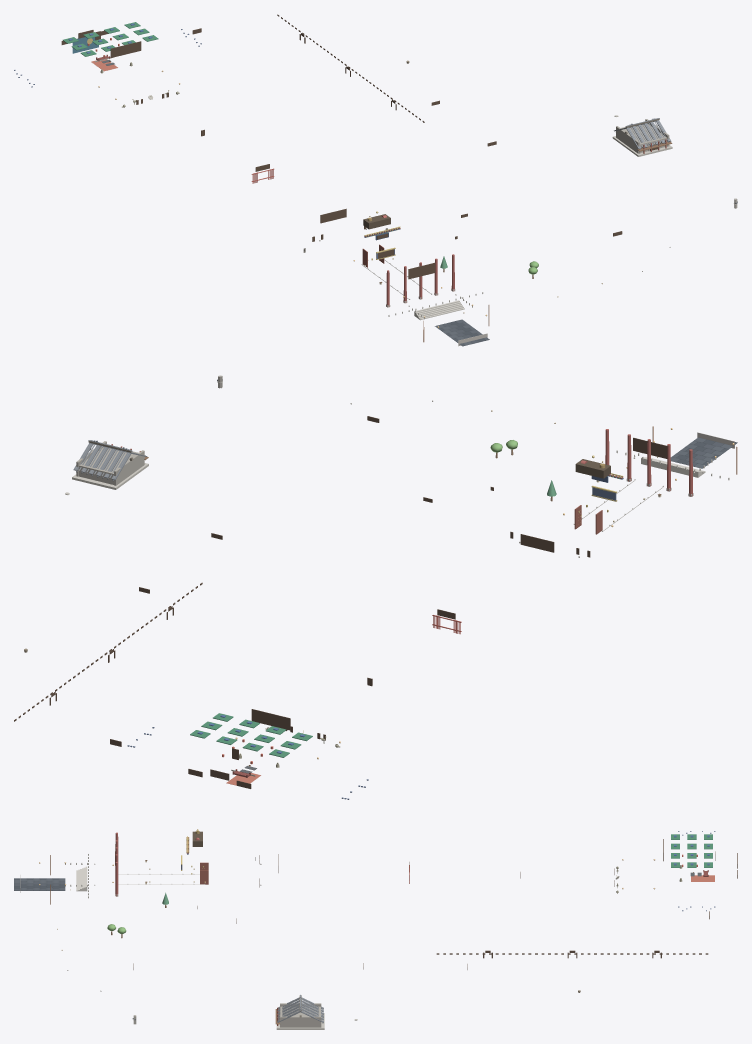
The model's file is tex_2000_-500.glb.
3 views of the same model, one above another, from view 1: azimuth 30°, elevation 25°; view 2: azimuth 150°, elevation 25°; view 3: azimuth 270°, elevation 25° (orthographic). The views are drawn at different scales.
Visible parts, largest first — view 1: tile; view 2: tile; view 3: tile.
Part boxes in pixels (<box>): tile: <box>14,14,737,346</box>; tile: <box>14,375,737,799</box>; tile: <box>14,829,737,1029</box>.
Bounding box in the file's own units: 246 × 36.1 × 394.
70 materials, 3 textured.
